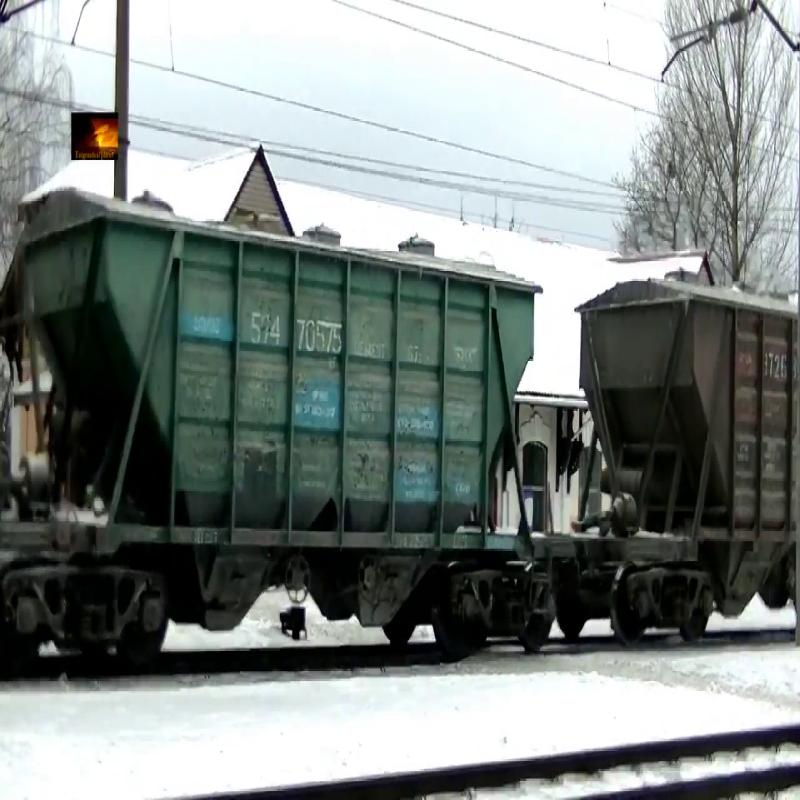train: (28, 214, 538, 656)
